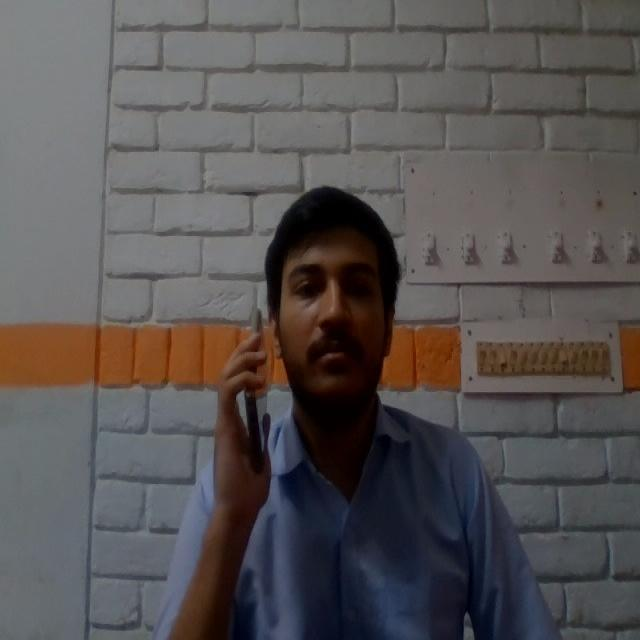oncall: (165, 184, 560, 640)
phone: (242, 299, 278, 465)
